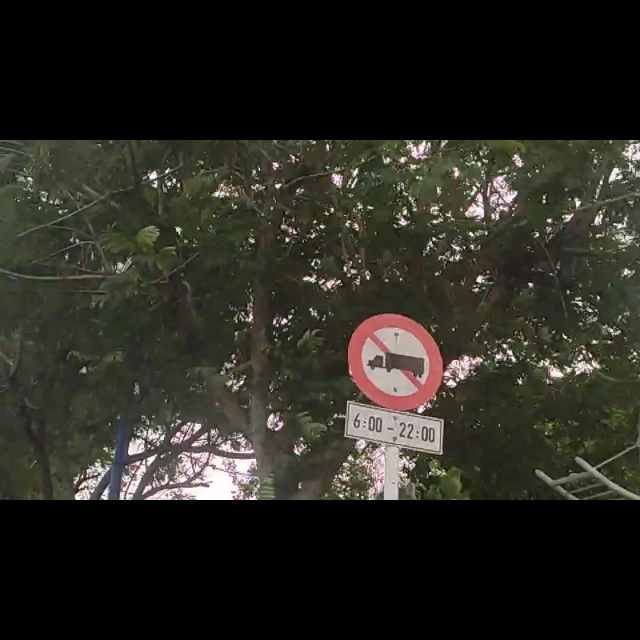bien_cam: (343, 313, 445, 550)
